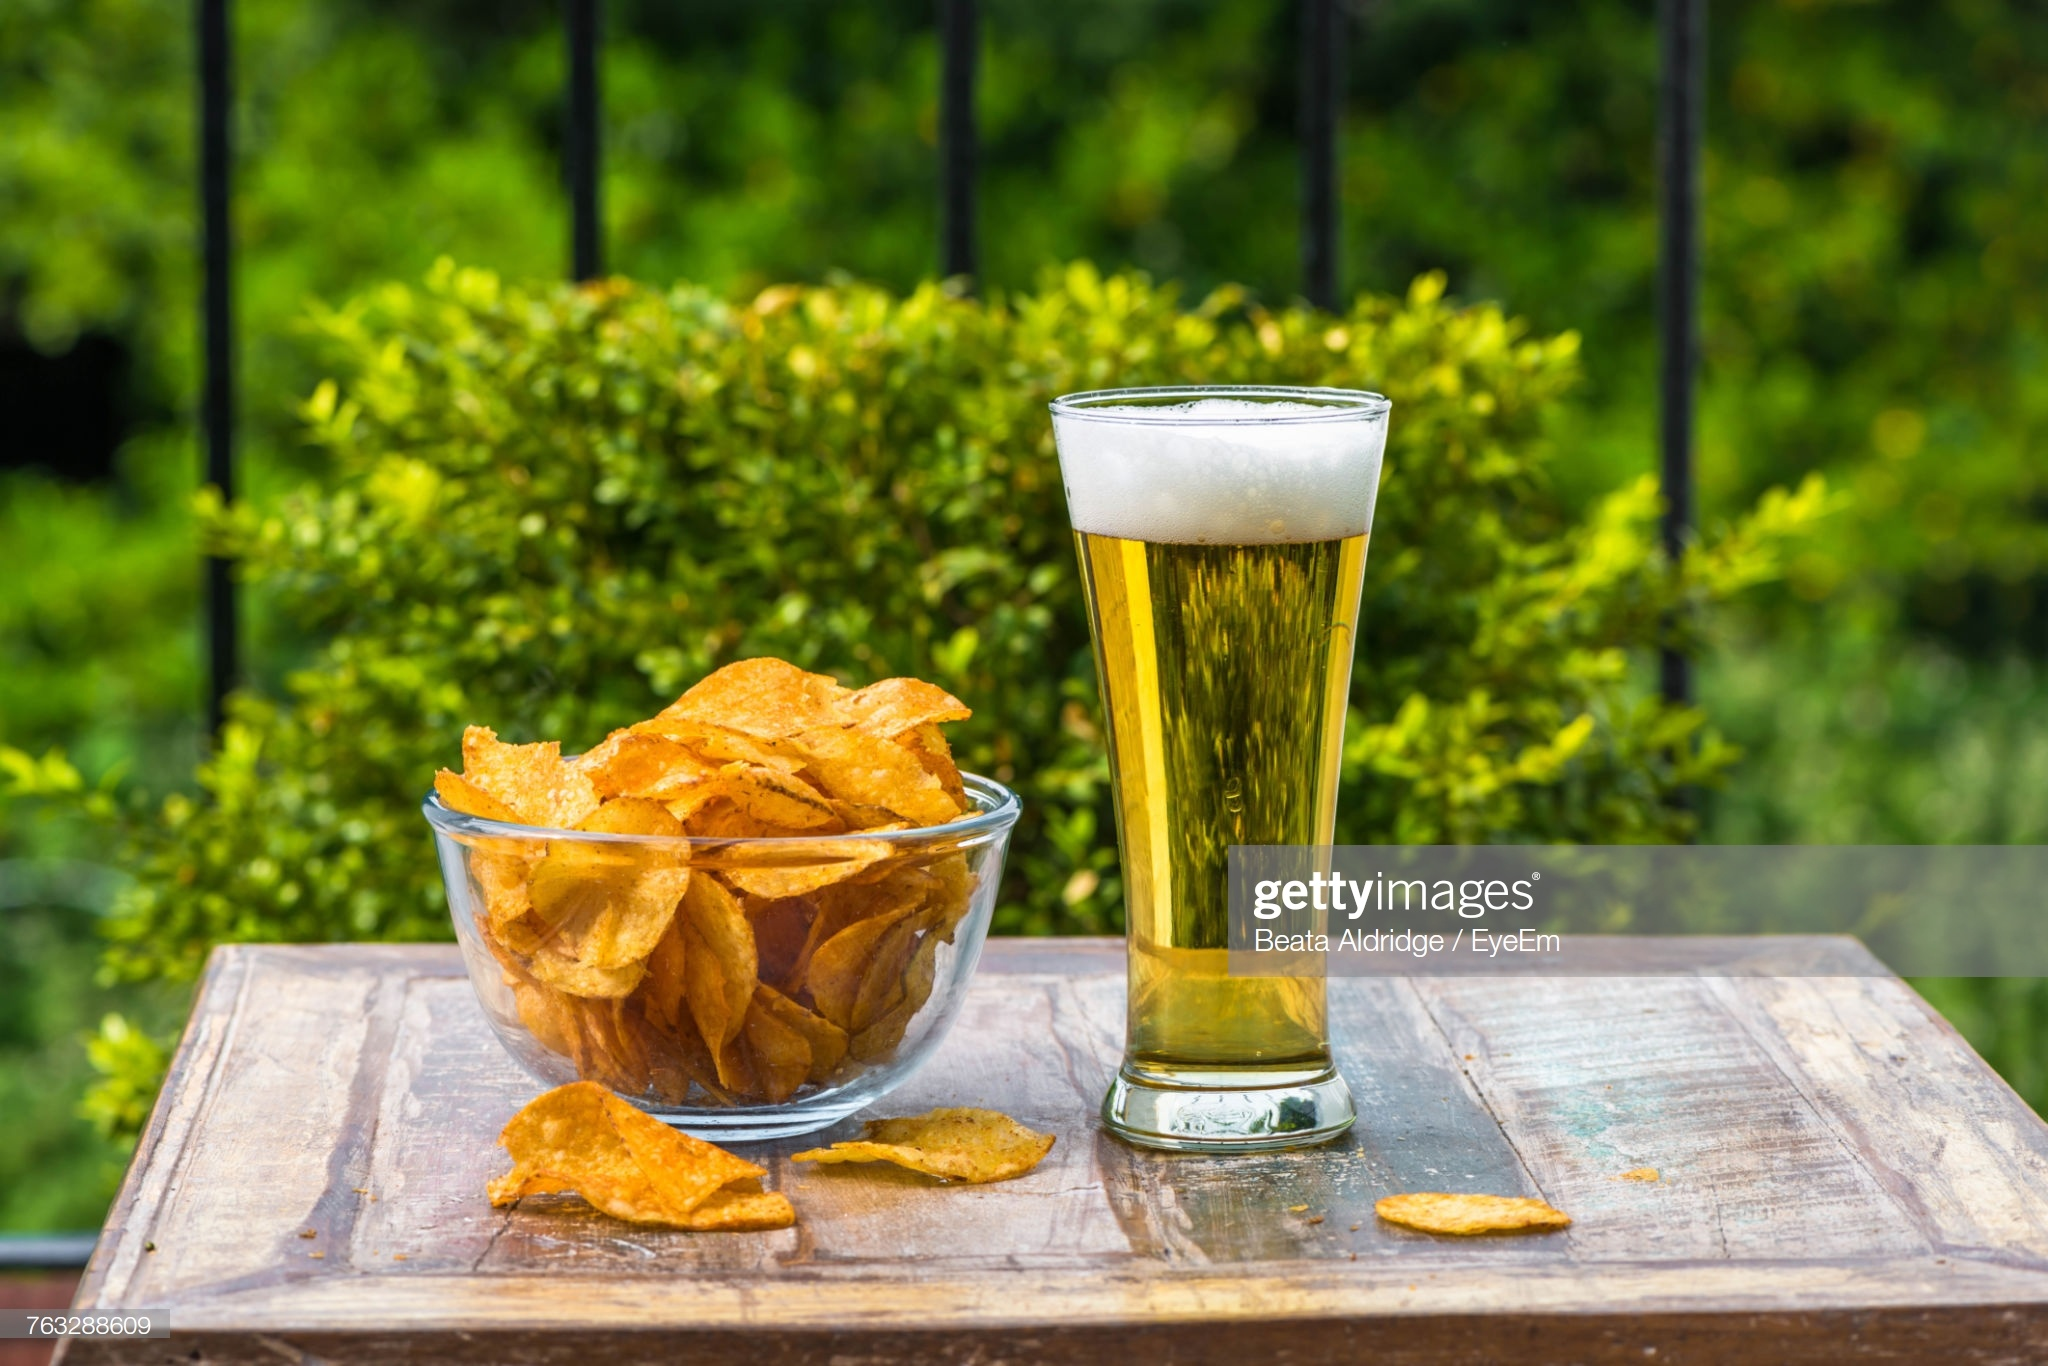glassBeer: (1082, 380, 1420, 1153)
